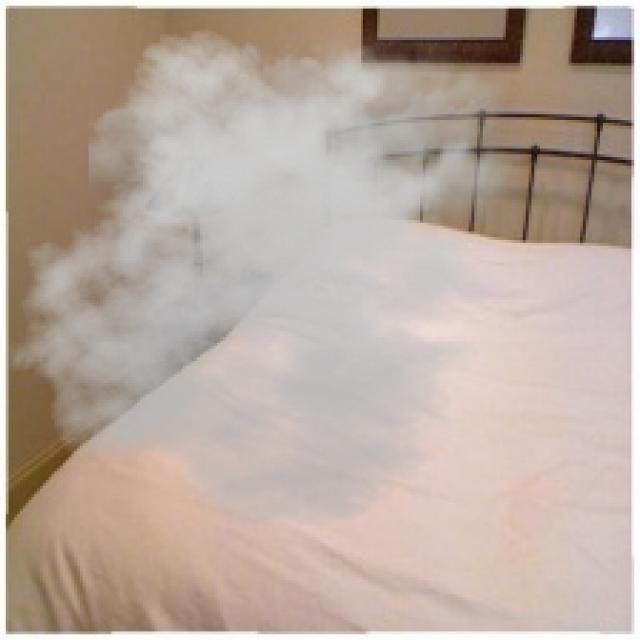smoke: (6, 14, 543, 529)
